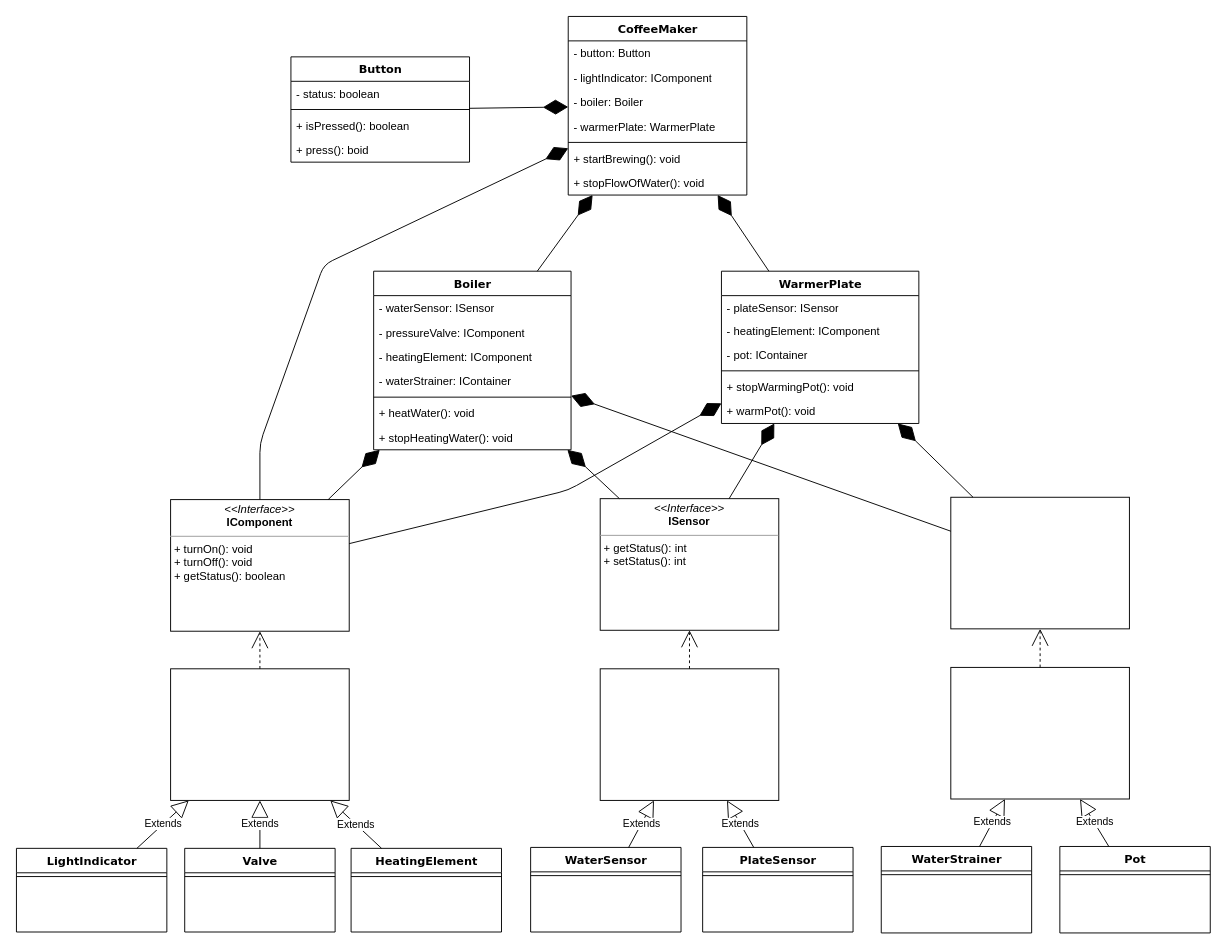
This 1227x949 diagram has some shape labels left out. Each missing label, with the centre of its shape:
"<<Abstract>> Component # status: boolean" belongs at (x=259, y=734).
"<<Abstract>> Container # capacityInUse: int # totalCapacity: int" belongs at (x=1039, y=732).
"<<Abstract>> Sensor # status: int" belongs at (x=689, y=734).
"<<Interface>> IContainer + getCapacityInUse(): int + setCapacityInUse(int): void" belongs at (x=1039, y=562).
